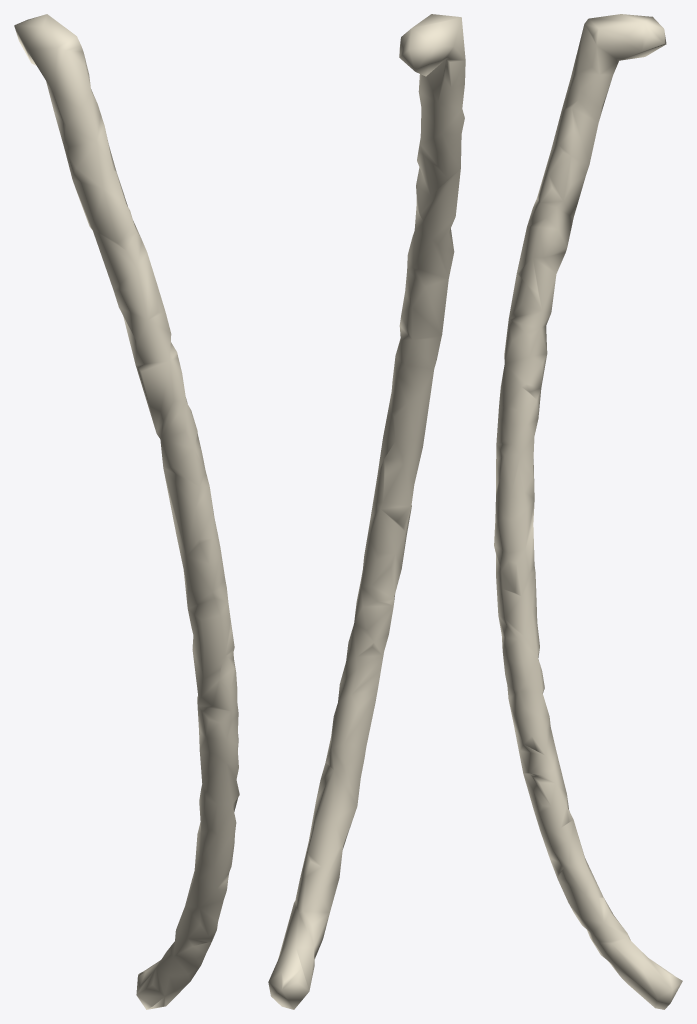
Rendered from rib_2_l.glb.
The picture shows the model from 3 angles, left to right: view 1: azimuth 30°, elevation 25°; view 2: azimuth 150°, elevation 25°; view 3: azimuth 270°, elevation 25°; orthographic projection. The views are drawn at different scales.
Visible parts, largest first — view 1: geometry_0; view 2: geometry_0; view 3: geometry_0.
Boxes of the visible parts, x1=… form: geometry_0: x1=14, y1=14, x2=239, y2=1009; geometry_0: x1=268, y1=14, x2=465, y2=1009; geometry_0: x1=494, y1=14, x2=682, y2=1009.
Bounding box in the file's own units: 0.1911 × 1.09 × 0.2002.
